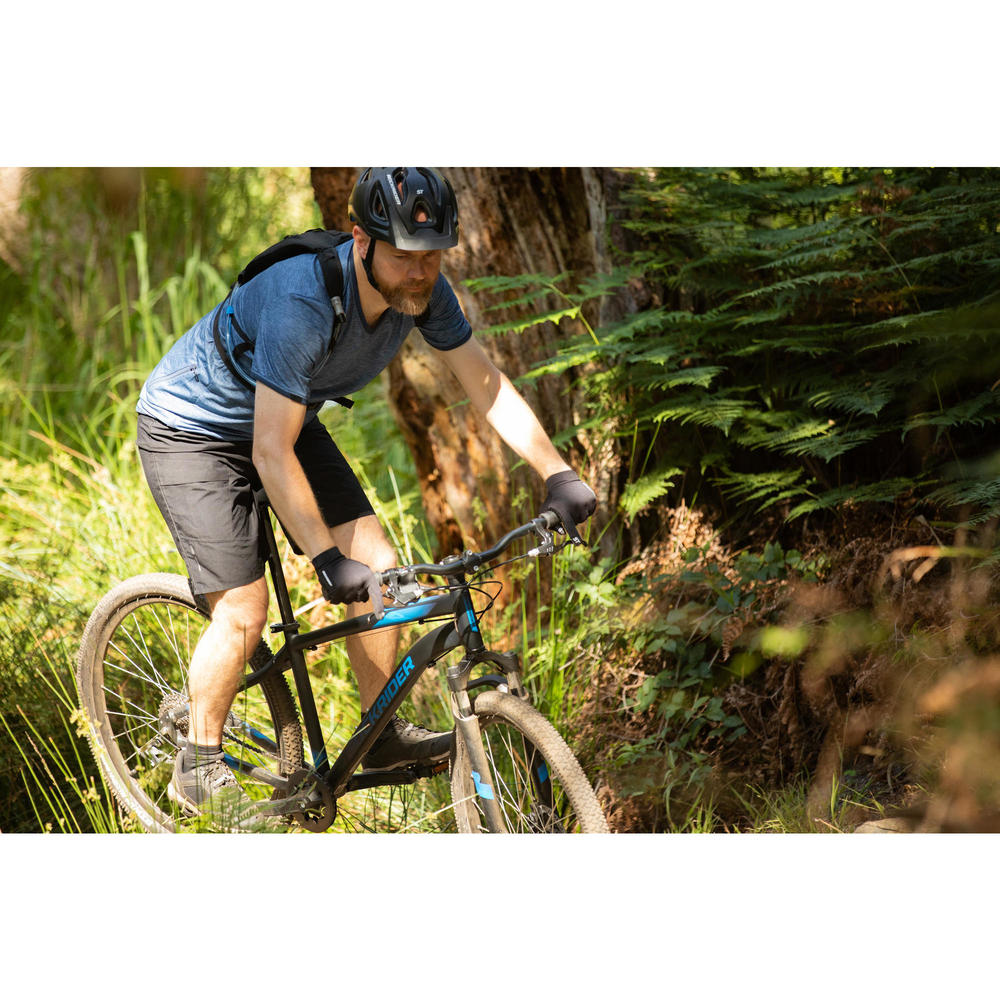MountainBike: (74, 504, 616, 836)
